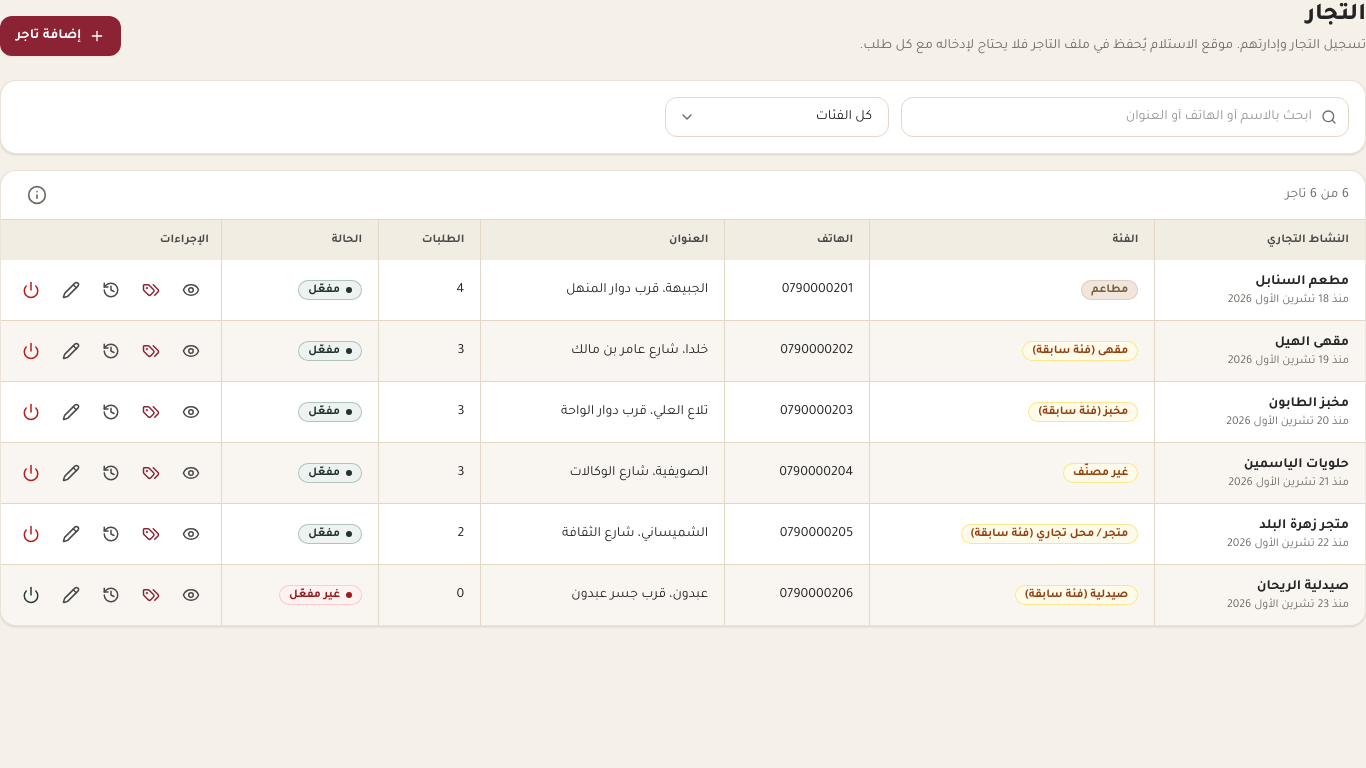
it: merchant and captain tables: one ⓘ legend above each table › merchants: the power action still asks for confirmation
Click the button named "إيقاف الحساب" in the row of "مطعم السنابل".
click(31, 290)  # box [13,272,49,308]
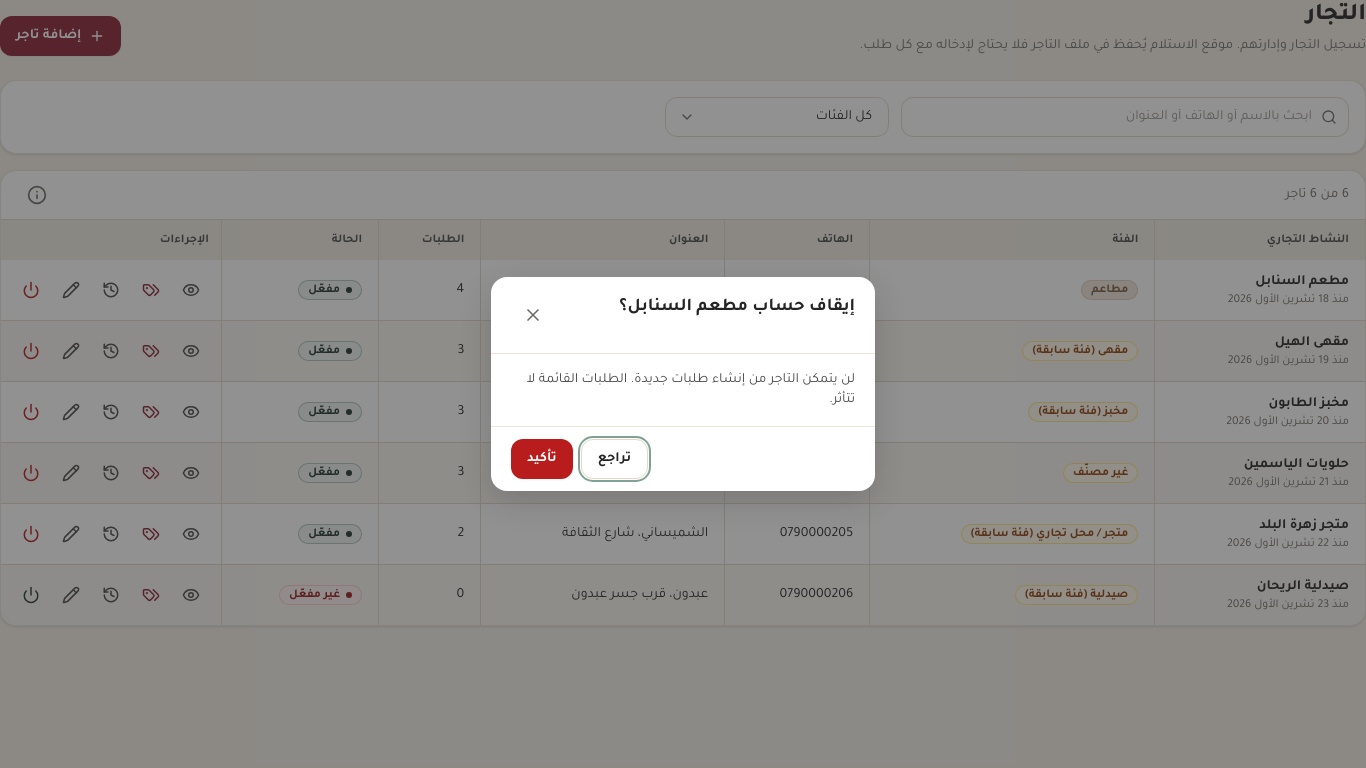
Now the dialog is shown, box [491,277,875,491]
